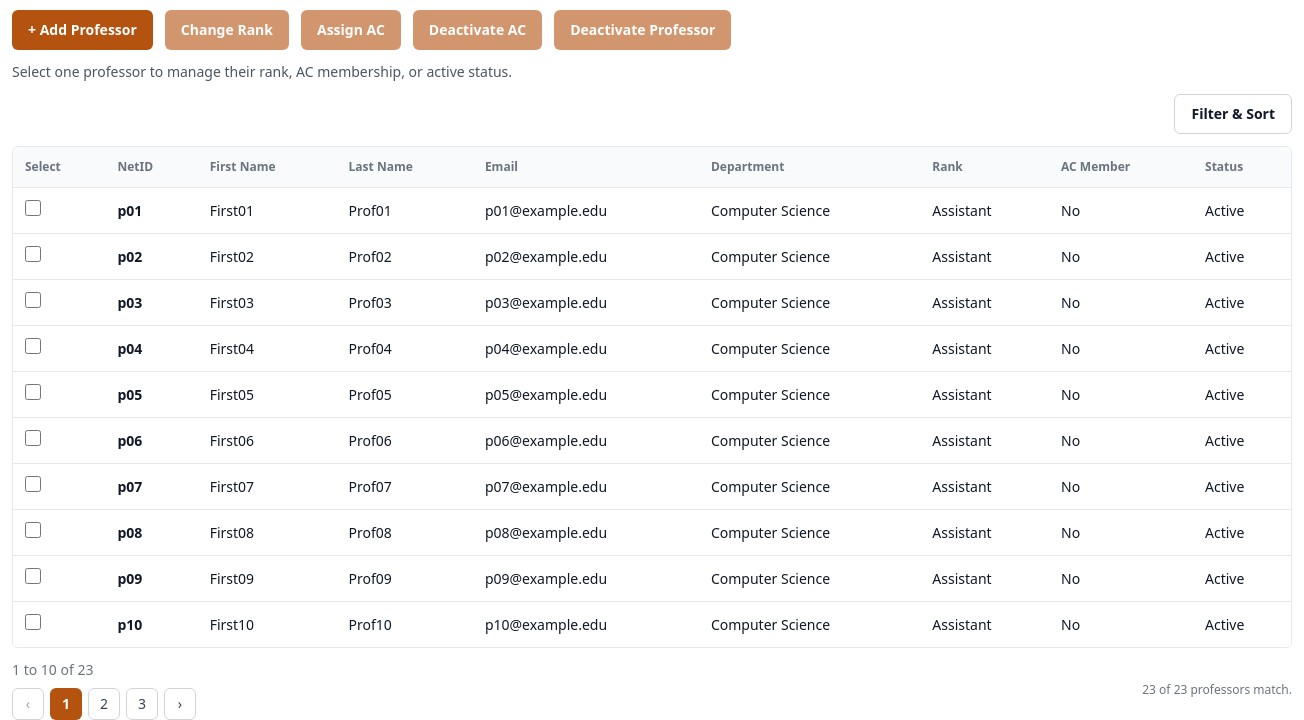
it: ProfessorsPage paging › returns to the first page when the search changes
(page scrolled)
Click the button named "Page 3". click: [142, 704]
box: [126, 688, 158, 719]
(page scrolled)
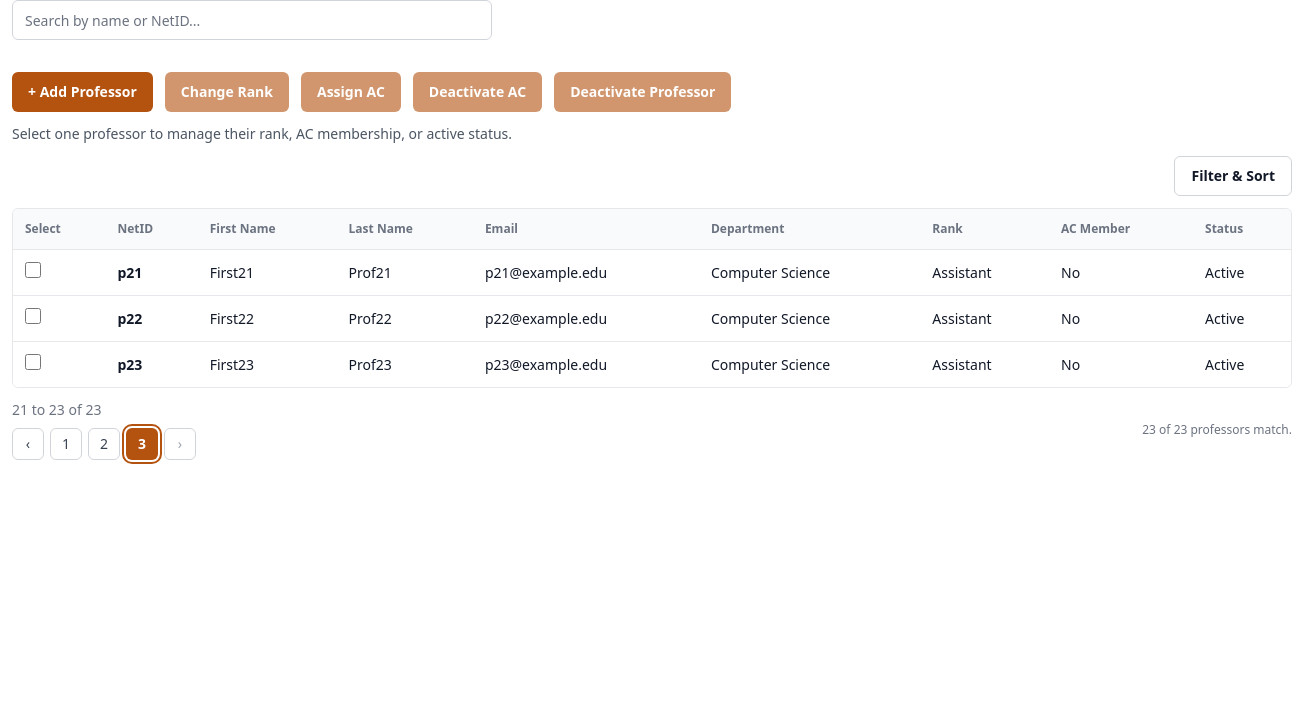
Type "Prof1" into the search field. click: [252, 20]
box: [12, 0, 492, 40]
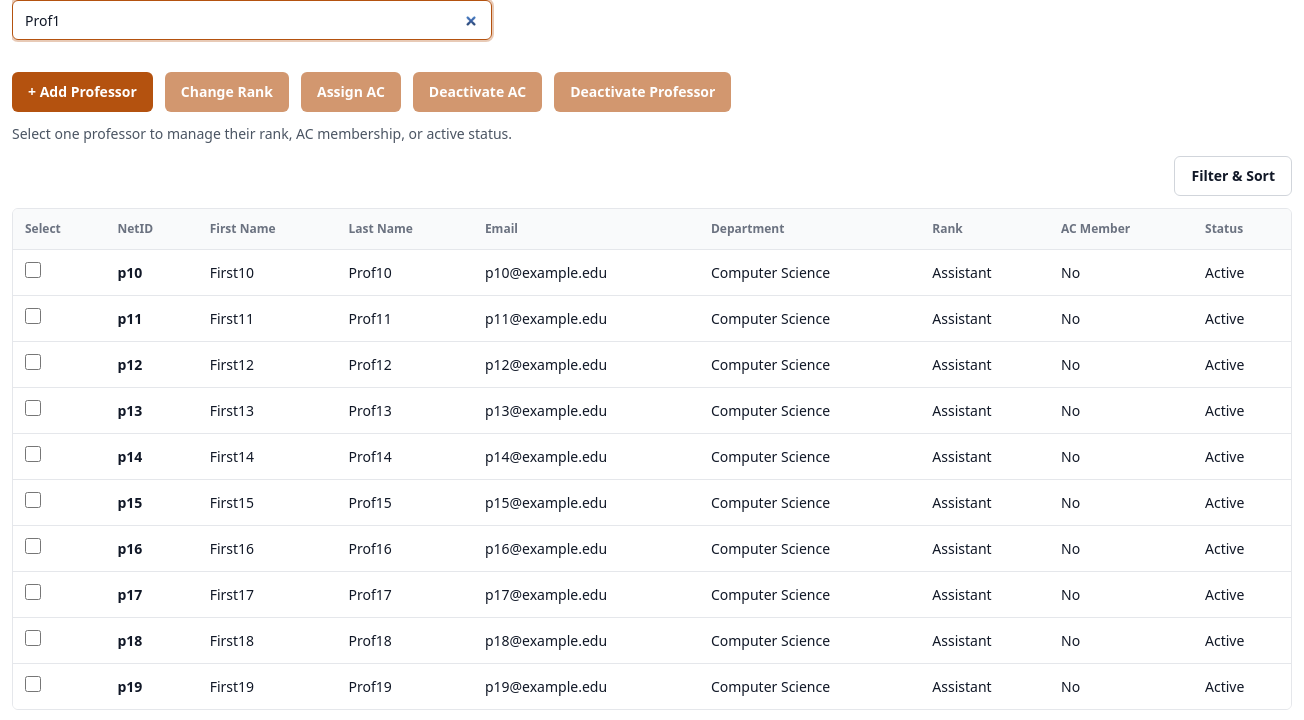
Check: the column heading "p10" is shown, box [106, 250, 198, 296]
